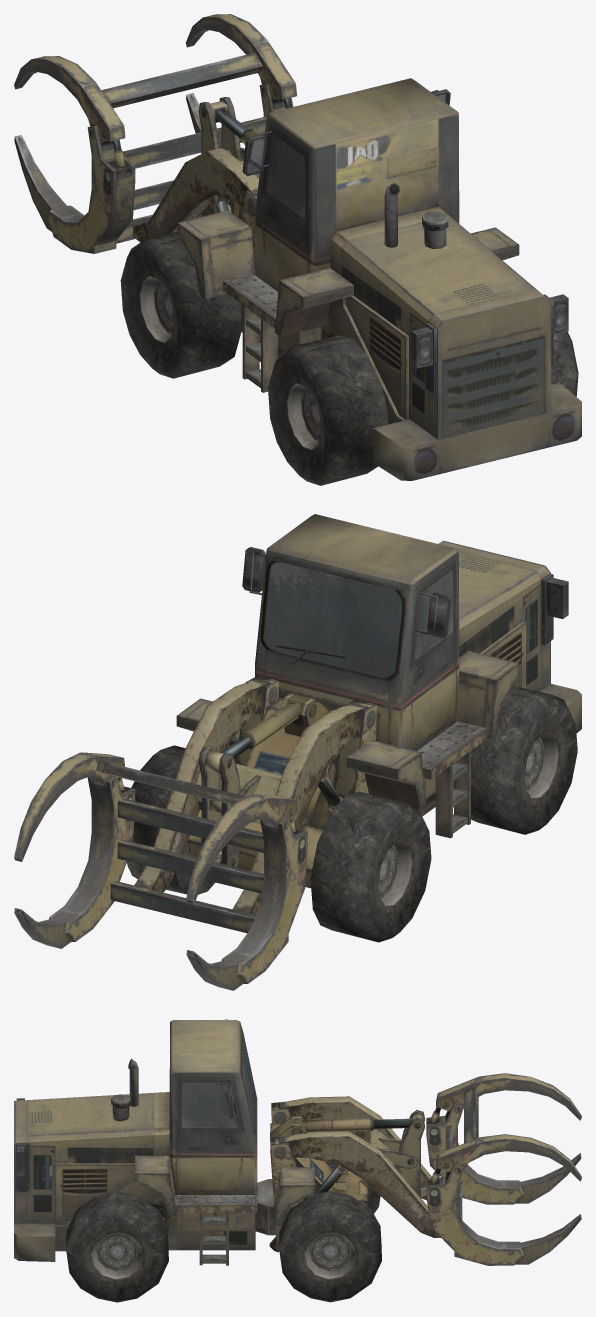
The model's file is Building_LinjgdDj003b.glb.
3 views of the same model, one above another, from view 1: azimuth 30°, elevation 25°; view 2: azimuth 150°, elevation 25°; view 3: azimuth 270°, elevation 25° (orthographic). The views are drawn at different scales.
Visible parts, largest first — view 1: bmsl_linjgd_dj003b_0; view 2: bmsl_linjgd_dj003b_0; view 3: bmsl_linjgd_dj003b_0.
Part boxes in pixels (x1,y1,x2,y2): bmsl_linjgd_dj003b_0: (14,14,581,485); bmsl_linjgd_dj003b_0: (14,514,581,990); bmsl_linjgd_dj003b_0: (14,1019,581,1302).
Size of the model in its own units: 5.95 by 6.83 by 16.23.
Materials: 2 (2 with a texture image).
